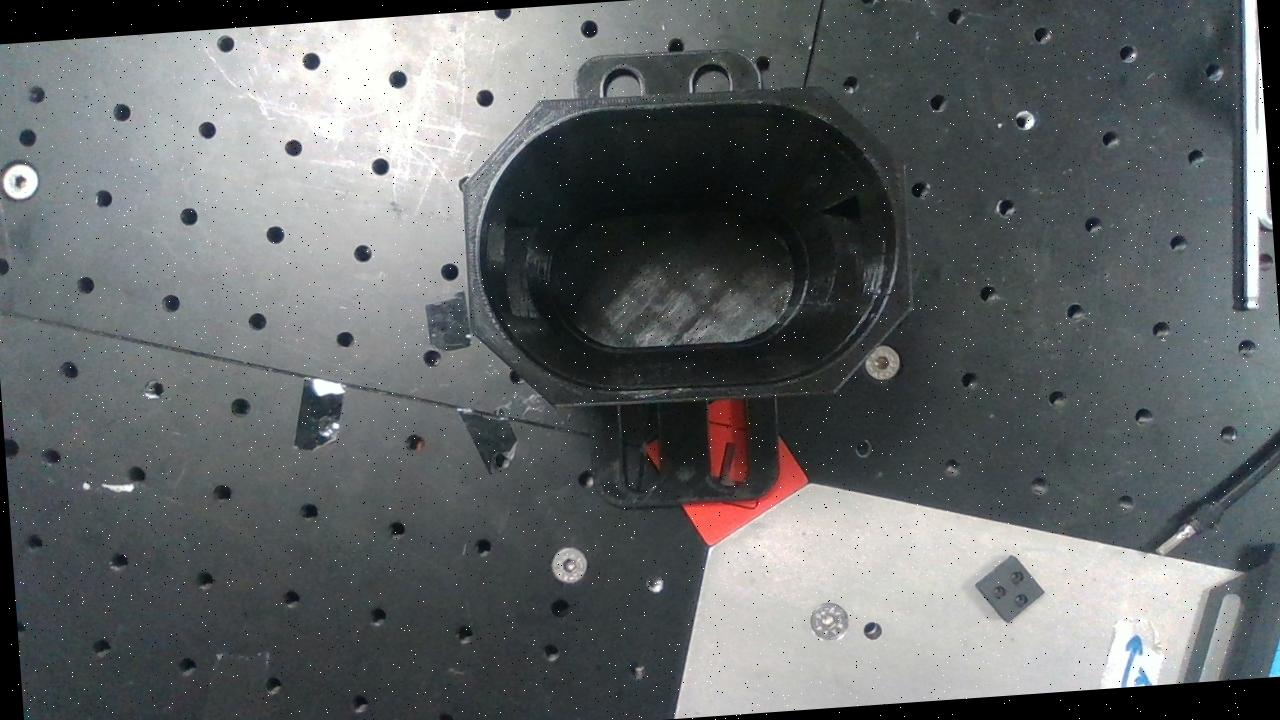small_interface: (457, 73, 922, 417)
